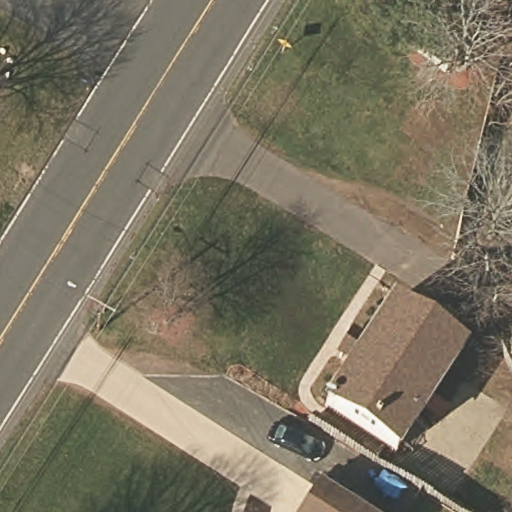DT: (78, 281, 123, 338)
